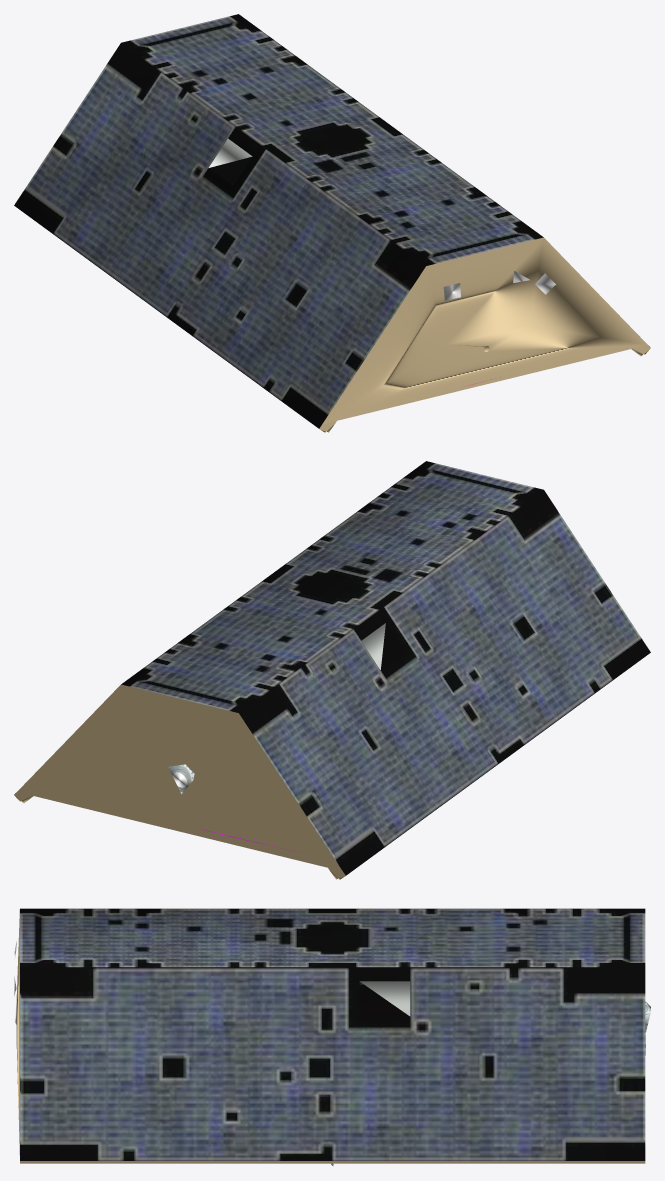
File: gravity-recovery-and-climate-experiment-grace-b.glb
3 views of the same model, one above another, from view 1: azimuth 30°, elevation 25°; view 2: azimuth 150°, elevation 25°; view 3: azimuth 270°, elevation 25° (orthographic). The views are drawn at different scales.
Visible parts, largest first — view 1: Mesh .006, Mesh, Mesh .004; view 2: Mesh .006, Mesh; view 3: Mesh .006, Mesh.
Boxes of the visible parts, box(x1,y1,x2,y2) form: Mesh .006: box(14, 14, 649, 428); Mesh: box(208, 138, 650, 432); Mesh .004: box(443, 271, 555, 300); Mesh .006: box(14, 461, 650, 875); Mesh: box(14, 623, 405, 879); Mesh .006: box(20, 908, 650, 1160); Mesh: box(16, 909, 645, 1163).
Size of the model in its own units: 4.81 by 3.08 by 7.8.
Materials: 5 (5 with a texture image).
